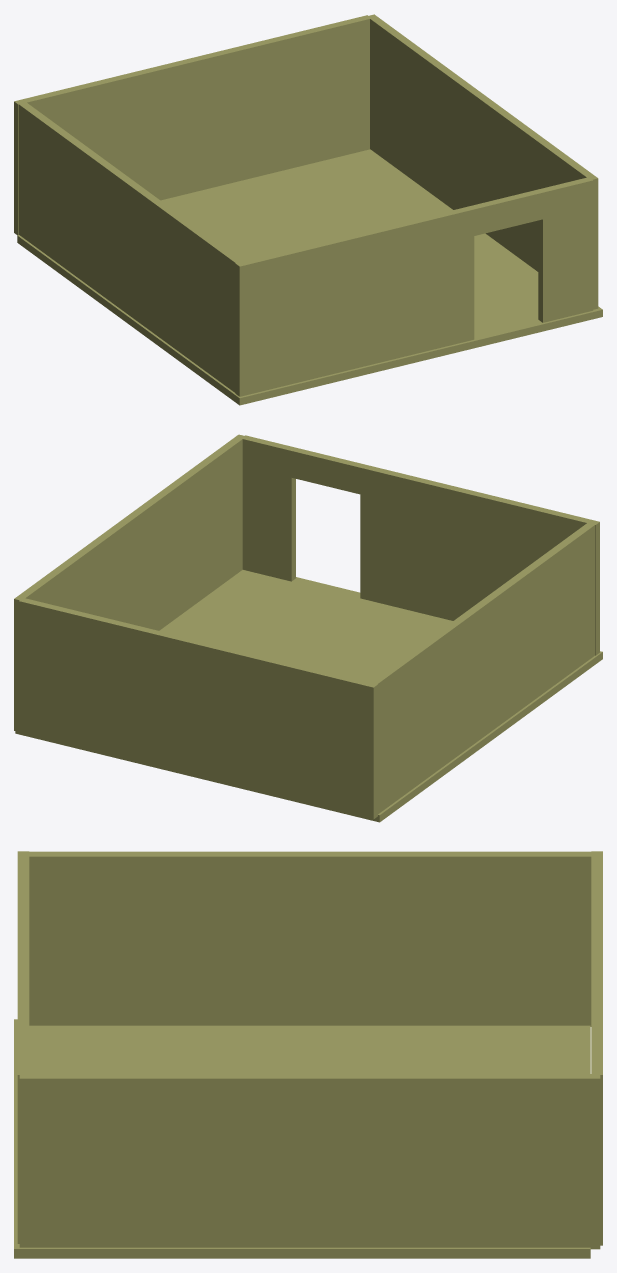
Rendered from room.fbx.
3 renders of one model, top to bottom at view 1: azimuth 30°, elevation 25°; view 2: azimuth 150°, elevation 25°; view 3: azimuth 270°, elevation 25°, orthographic. The views are drawn at different scales.
Visible parts, largest first — view 1: Cube.003, Cube.002, Cube.001, Cube.004, Cube; view 2: Cube.002, Cube.003, Cube.001, Cube, Cube.004; view 3: Cube, Cube.001, Cube.004, Cube.003, Cube.002.
Part boxes in pixels (<box>): Cube.003: <box>235,177,593,396</box>; Cube.002: <box>14,15,371,235</box>; Cube.001: <box>19,102,246,392</box>; Cube.004: <box>17,149,602,405</box>; Cube: <box>369,14,598,309</box>; Cube.002: <box>19,598,377,819</box>; Cube.003: <box>242,435,599,655</box>; Cube.001: <box>366,520,597,814</box>; Cube: <box>14,434,245,731</box>; Cube.004: <box>15,570,602,822</box>; Cube: <box>19,1074,600,1249</box>; Cube.001: <box>19,851,591,1026</box>; Cube.004: <box>14,1019,590,1258</box>; Cube.003: <box>17,851,29,1243</box>; Cube.002: <box>591,851,602,1245</box>.
Bounding box in the file's own units: 3424 × 1239 × 3710.
